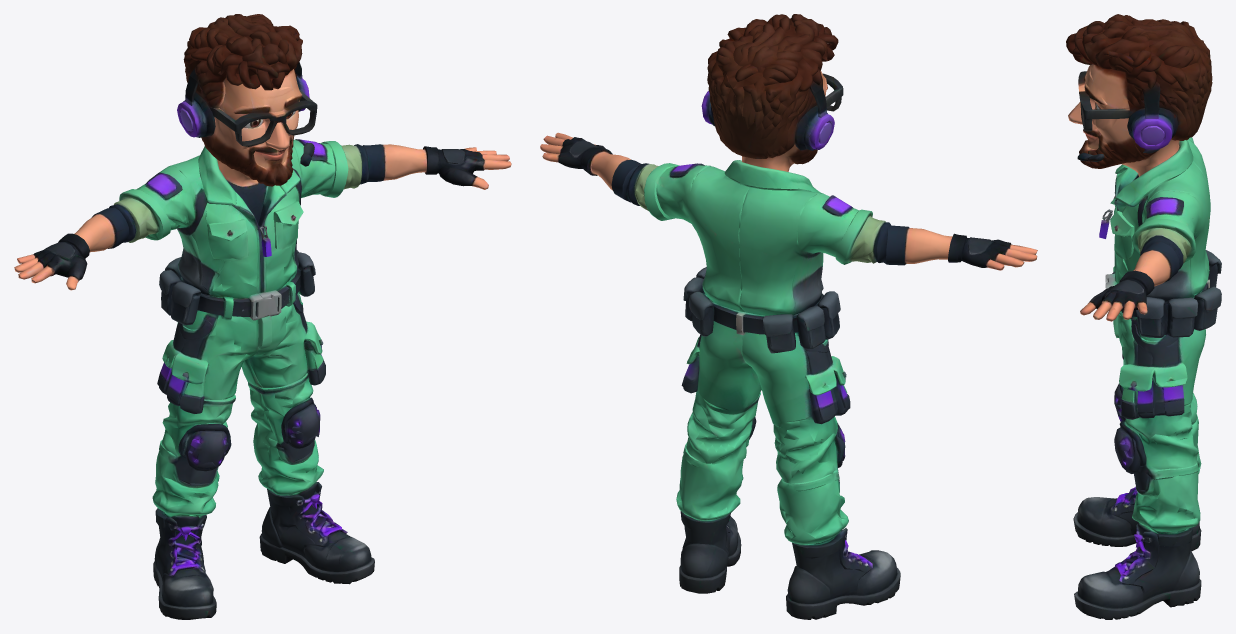
The model's file is hunter.glb.
3 renders of one model, left to right at view 1: azimuth 30°, elevation 25°; view 2: azimuth 150°, elevation 25°; view 3: azimuth 270°, elevation 25°, orthographic.
Visible parts, largest first — view 1: model; view 2: model; view 3: model.
Boxes of the visible parts, x1,y1,x2,y2 form: model: [14, 14, 511, 619]; model: [540, 14, 1037, 619]; model: [1066, 14, 1221, 619].
Size of the model in its own units: 1.75 by 1.9 by 0.4865.
Materials: 1 (1 with a texture image).
